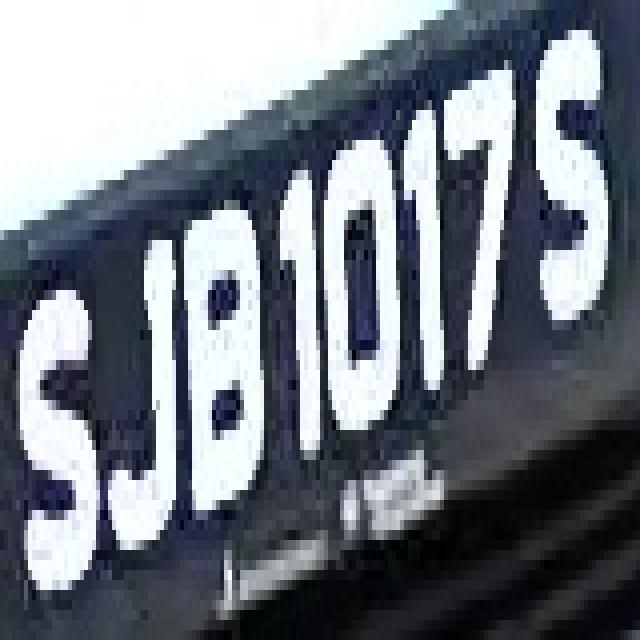0: (324, 140, 408, 480)
1: (388, 70, 448, 460), (272, 140, 332, 500)
7: (440, 40, 516, 400)
B: (164, 180, 272, 540)
J: (100, 190, 184, 570)
S: (8, 240, 112, 590), (520, 40, 628, 350)
